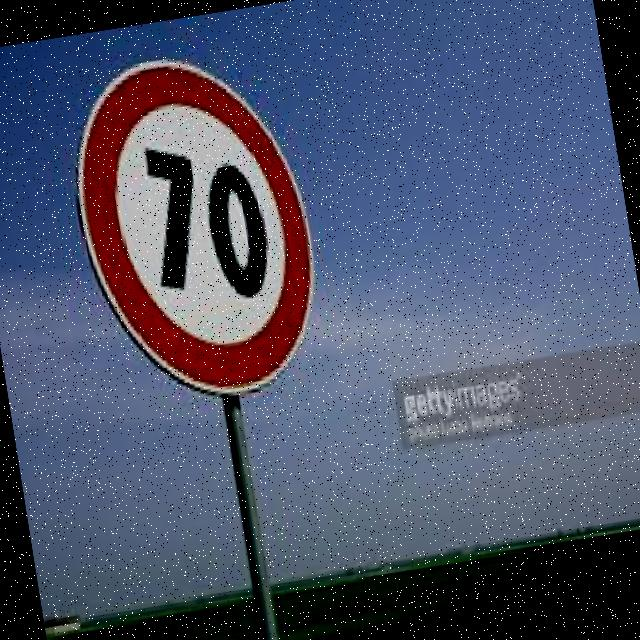Ograniczenie predkosci do 70: (60, 38, 335, 424)
